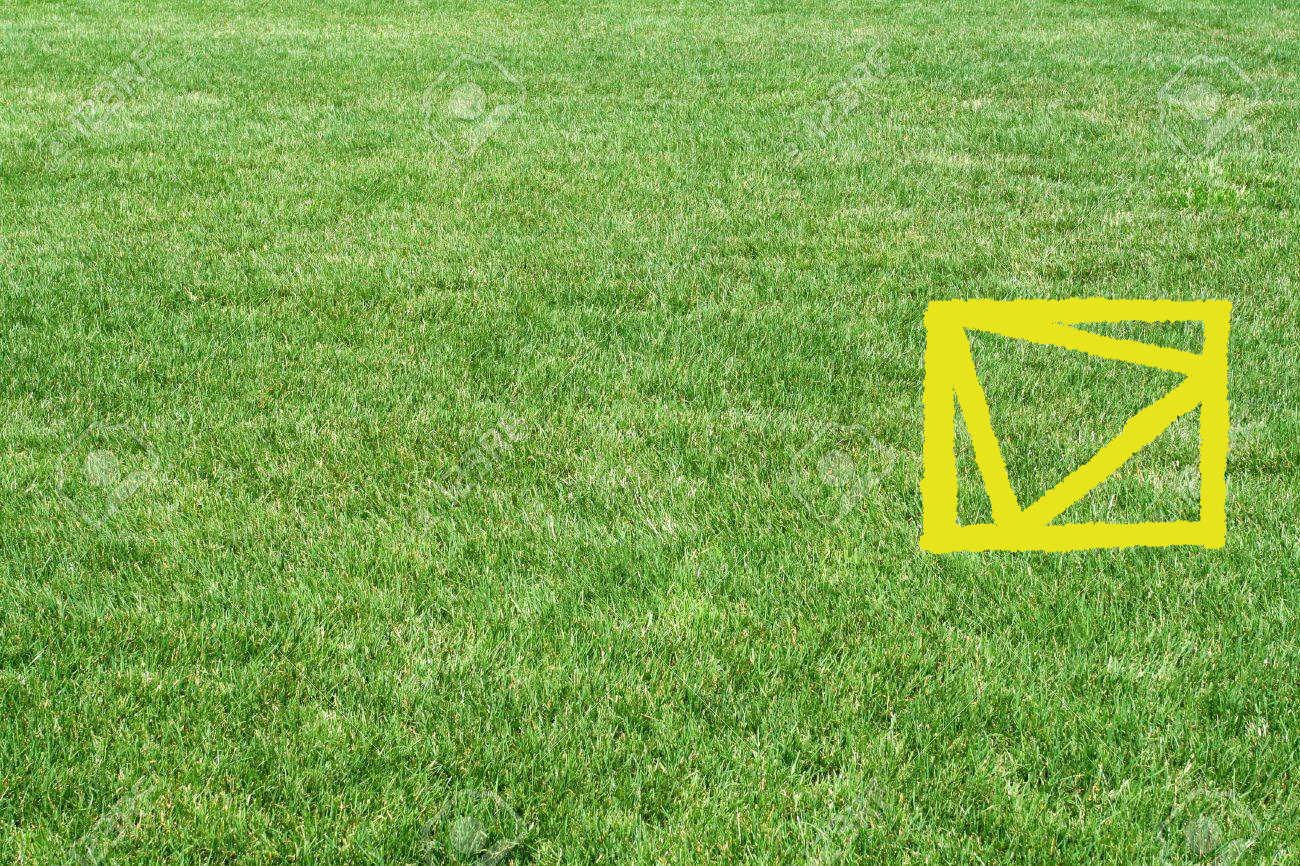marker: (914, 285, 1239, 562)
